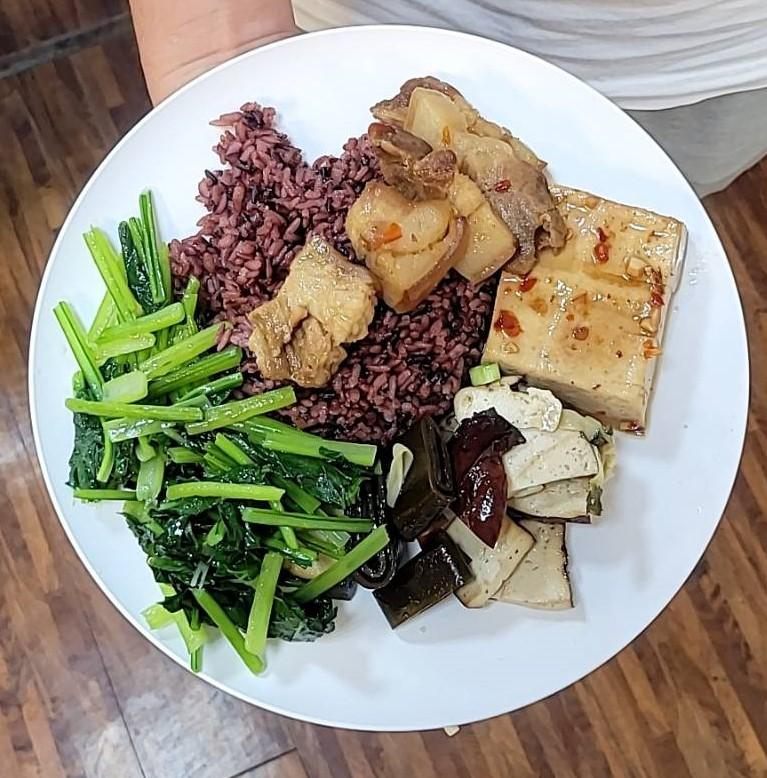big fried chicken leg: (25, 14, 760, 735)
braised fish: (187, 115, 492, 441)
braised fish fillet: (74, 244, 368, 659), (475, 190, 702, 433), (382, 382, 608, 625)
braised pork: (264, 78, 555, 375)
